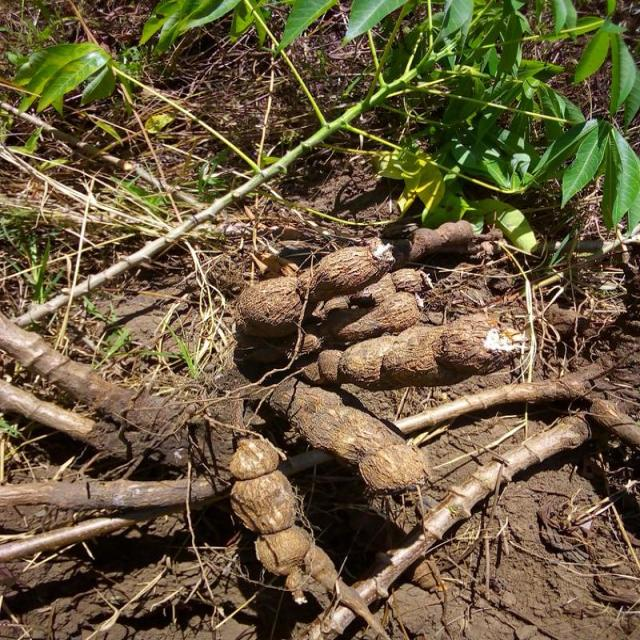cassava leaf: (12, 40, 118, 118)
